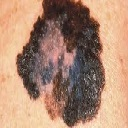Melanoma: (26, 1, 107, 122)
